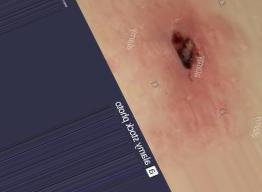Spider: (160, 28, 217, 82)
